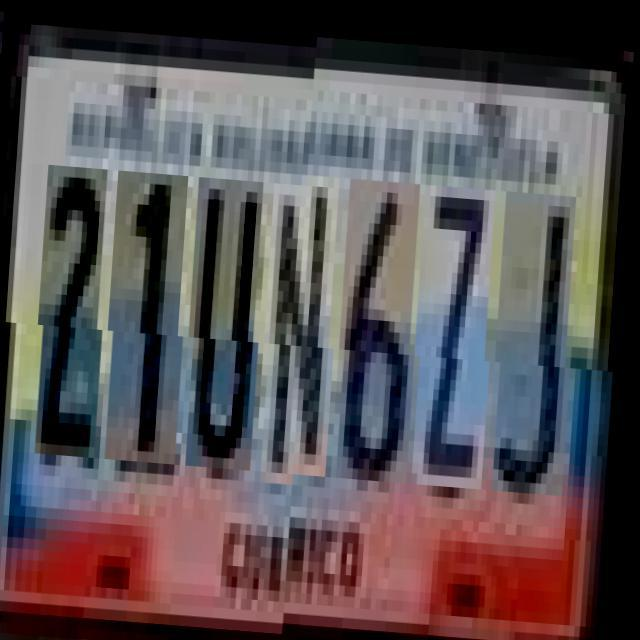1: (111, 169, 196, 461)
2: (41, 164, 115, 456)
6: (342, 184, 428, 486)
J: (498, 194, 584, 496)
N: (266, 178, 346, 482)
U: (192, 174, 272, 466)
Z: (417, 188, 503, 492)
